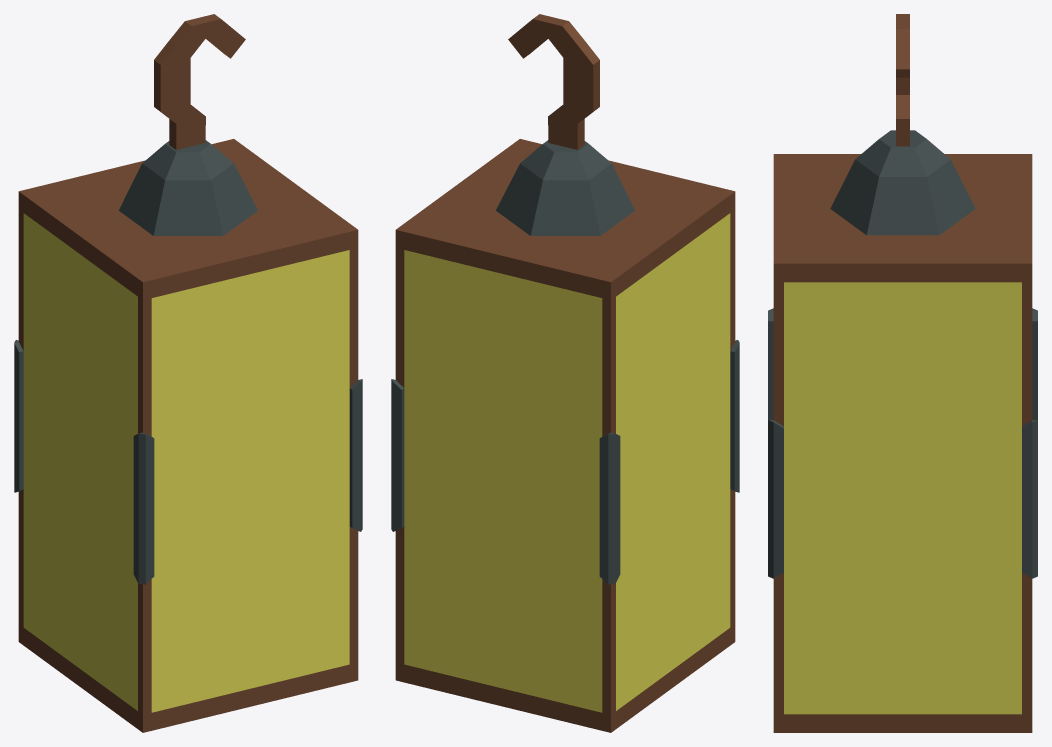
The model's file is Lamp_4_Yellow.fbx.
3 renders of one model, left to right at view 1: azimuth 30°, elevation 25°; view 2: azimuth 150°, elevation 25°; view 3: azimuth 270°, elevation 25°, orthographic. The views are drawn at different scales.
Parts seen in each view (by area): view 1: Lamp_4_Yellow; view 2: Lamp_4_Yellow; view 3: Lamp_4_Yellow.
Part boxes in pixels (x1,y1,x2,y2): Lamp_4_Yellow: (14,14,362,732); Lamp_4_Yellow: (391,14,739,732); Lamp_4_Yellow: (768,14,1037,732).
Bounding box in the file's own units: 25 × 67.91 × 25.
